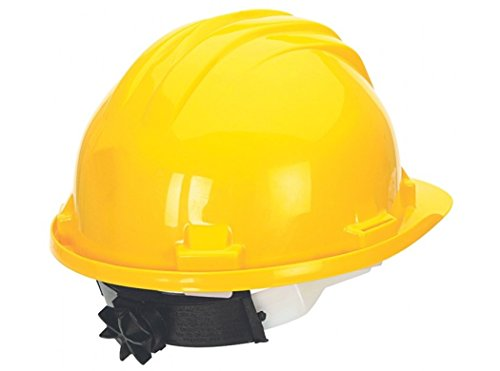casco: (47, 8, 455, 293)
